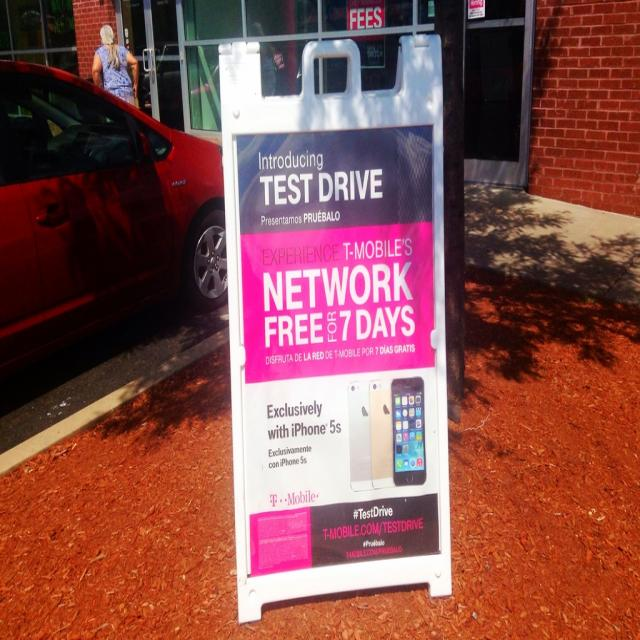Mobile-phone: (390, 375, 426, 498), (370, 379, 392, 486), (348, 381, 368, 489)
